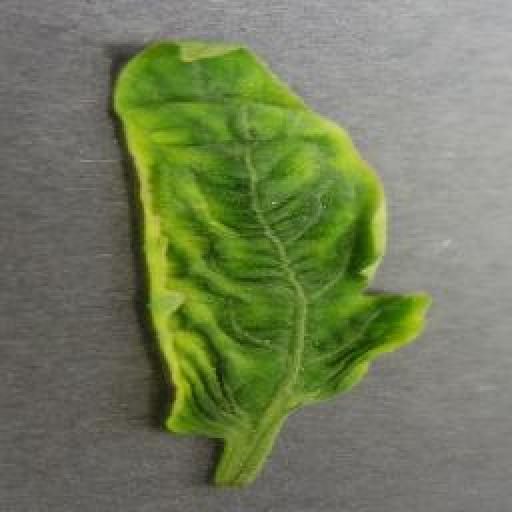disease_tomato: (113, 32, 432, 437)
